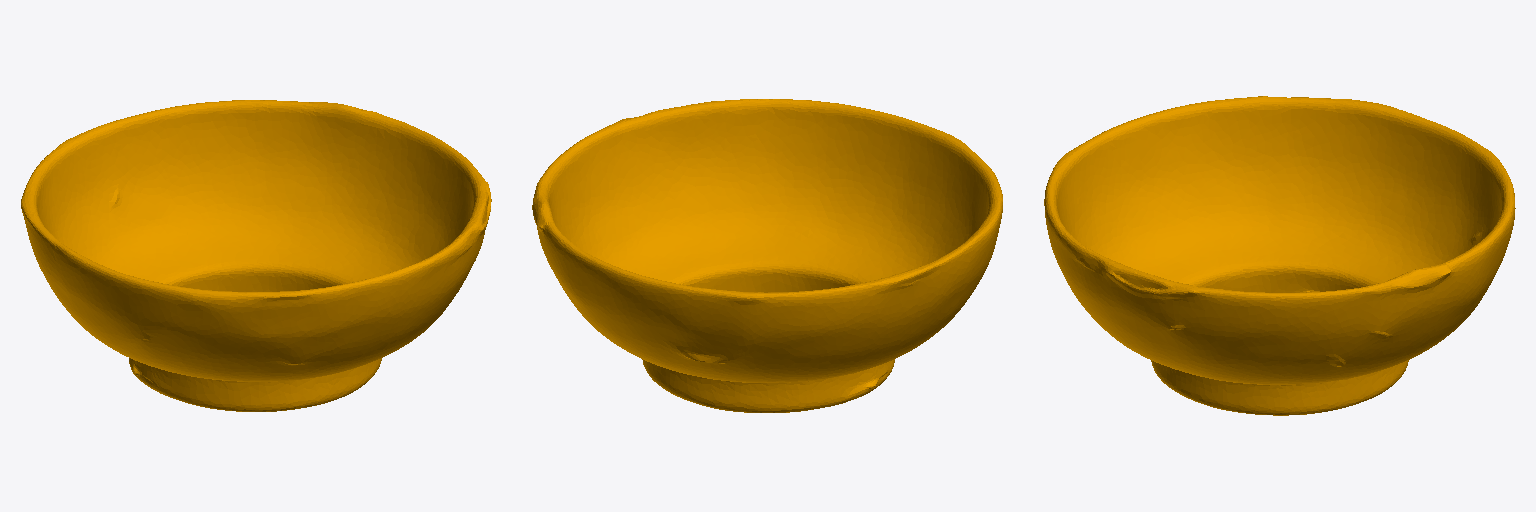
URDF robot description (root):
<robot name="root">
  <link name="link_original">
    <visual>
      <origin xyz="0 0 0" rpy="0 0 0"/>
      <geometry>
        <mesh filename="frame_000000_object_mesh_target_centered.obj" scale="1.0000E+00 1.0000E+00 1.0000E+00"/>
      </geometry>
    </visual>
    <inertial>
      <origin xyz="0 0 0" rpy="0 0 0"/>
      <inertia ixx="5.35E-04" ixy="6.31E-07" ixz="-2.47E-08" iyy="5.43E-04" iyz="-4.30E-08" izz="9.31E-04"/>
    </inertial>
    <collision>
      <origin xyz="0 0 0" rpy="0 0 0"/>
      <geometry>
        <mesh filename="coacd_allinone.obj" scale="1.0000E+00 1.0000E+00 1.0000E+00"/>
      </geometry>
    </collision>
  </link>
</robot>

--- What the picture shows (computed from the rendered views, not written in the file) ---
The picture shows the robot from 3 angles, left to right: view 1: azimuth 30°, elevation 25°; view 2: azimuth 150°, elevation 25°; view 3: azimuth 270°, elevation 25°; orthographic projection.
Robot: root — 1 links, 0 joints (none); root link link_original; default pose: all joints at 0.
Links seen in each view (by area): view 1: link_original; view 2: link_original; view 3: link_original.
Boxes of the visible links, <box> form: link_original: <box>21,100,491,411</box>; link_original: <box>532,99,1002,412</box>; link_original: <box>1044,96,1515,415</box>.
Bounding box of the posed robot: 0.1731 × 0.1731 × 0.07 m (x, y, z).
1 mesh visuals loaded from 1 distinct referenced files (1 OBJ).
